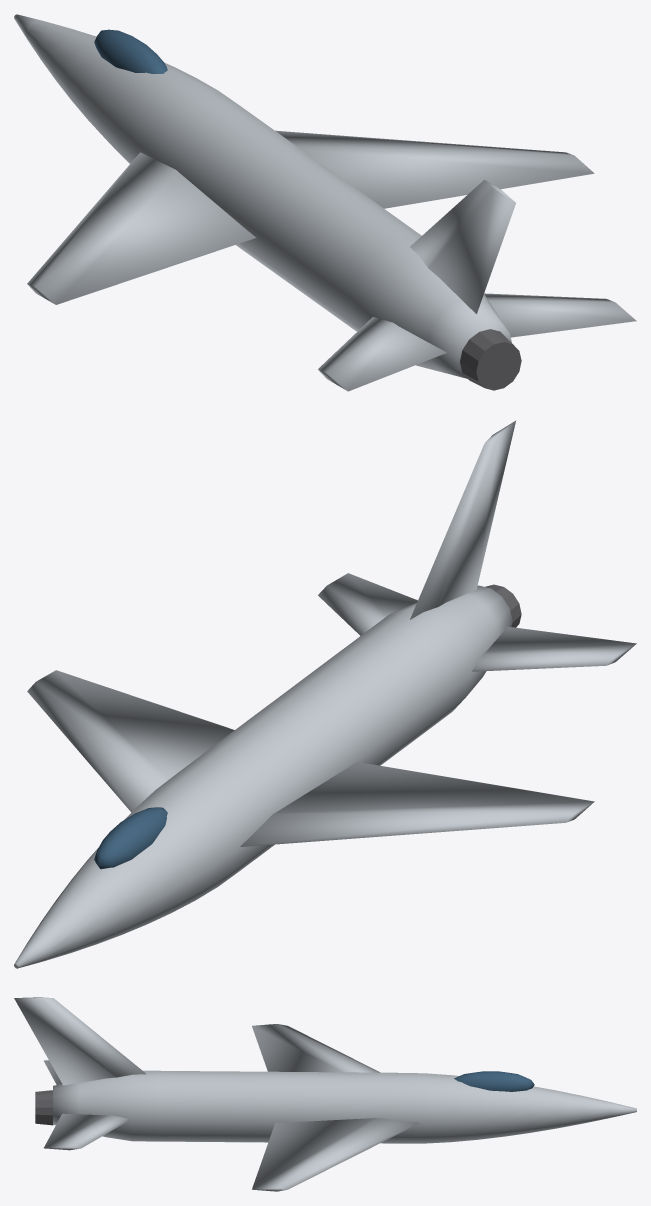
3 renders of one model, top to bottom at view 1: azimuth 30°, elevation 25°; view 2: azimuth 150°, elevation 25°; view 3: azimuth 270°, elevation 25°, orthographic. The views are drawn at different scales.
Visible parts, largest first — view 1: Body, Detail, Canopy; view 2: Body, Canopy; view 3: Body, Canopy, Detail.
Boxes of the visible parts, x1=… form: Body: x1=14, y1=14, x2=636, y2=391; Detail: x1=460, y1=329, x2=521, y2=390; Canopy: x1=94, y1=29, x2=167, y2=73; Body: x1=14, y1=420, x2=636, y2=968; Canopy: x1=94, y1=807, x2=167, y2=869; Body: x1=14, y1=997, x2=636, y2=1191; Canopy: x1=454, y1=1071, x2=534, y2=1091; Detail: x1=35, y1=1090, x2=52, y2=1125.
Size of the model in its own units: 996 by 403 by 1600.
